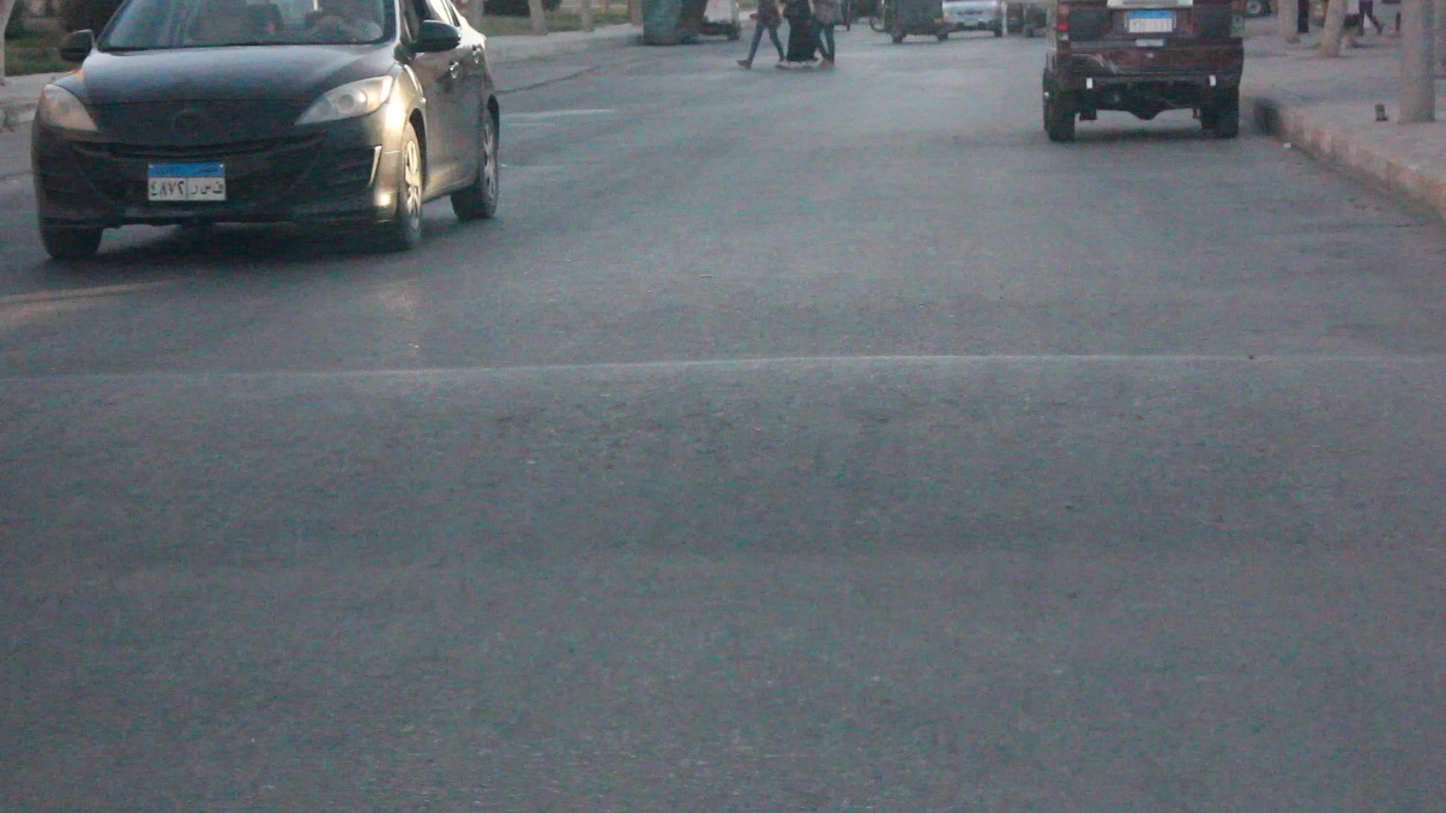Bump: (0, 359, 1445, 562)
